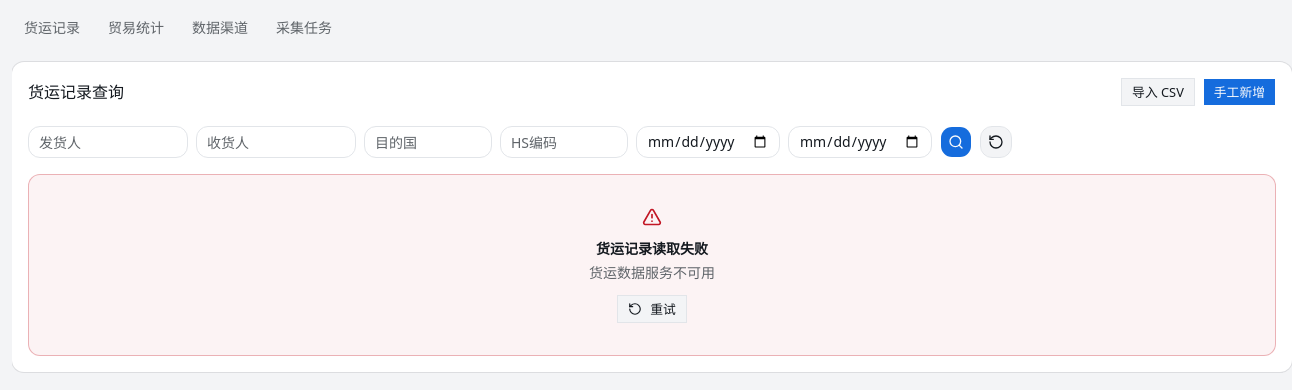
it: 情报 · 货运记录 › 失败 ⇒ ErrorState + 重试，不显示「暂无货运记录数据」
This screenshot has width=1292, height=390.
Check: the text "暂无货运记录数据" is not shown
Click the button "重试".
click(652, 309)  # box [617,295,687,323]
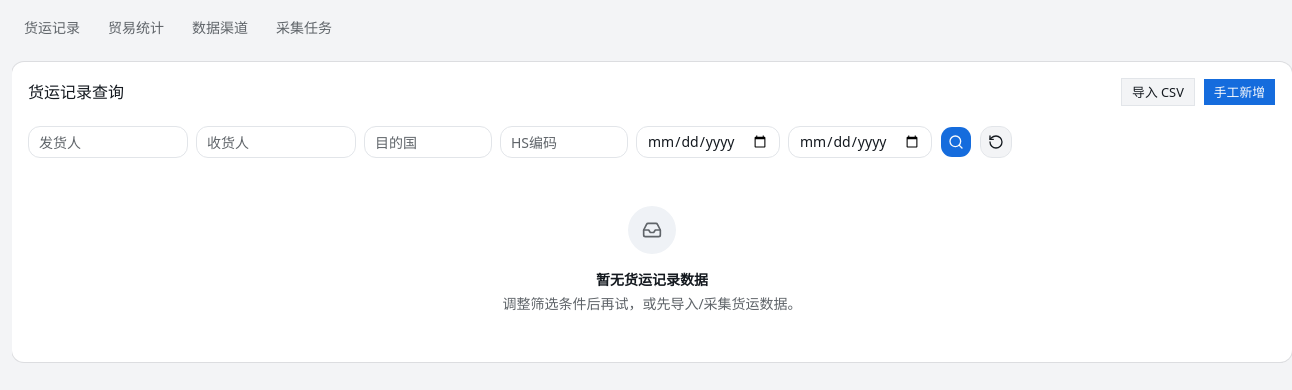
Check: the message "货运记录读取失败 货运数据服务不可用 重试" is gone
Check: the text "暂无货运记录数据" is shown, box [596,270,708,290]
